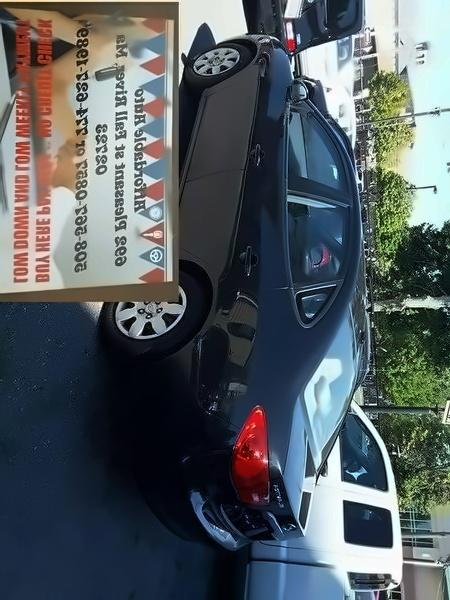Car boot: (222, 387, 320, 549)
Fender - -F-L-: (161, 249, 286, 420), (202, 30, 295, 99)
Passenger-s door - -F-L-: (180, 81, 359, 187)
Passenger-s door - -R-L-: (182, 173, 360, 291)
Rear bumper: (110, 337, 246, 546)
Rear light - -L-: (225, 400, 274, 514)
Side bumper - -L-: (180, 74, 213, 187)
Side mirror - -L-: (282, 73, 313, 111)
